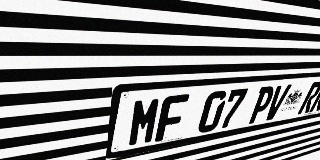0: (196, 90, 229, 134)
7: (216, 88, 249, 130)
F: (155, 94, 190, 142)
M: (127, 96, 163, 148)
P: (246, 86, 277, 124)
R: (297, 81, 320, 115), (309, 80, 320, 112)
V: (262, 84, 292, 121)
